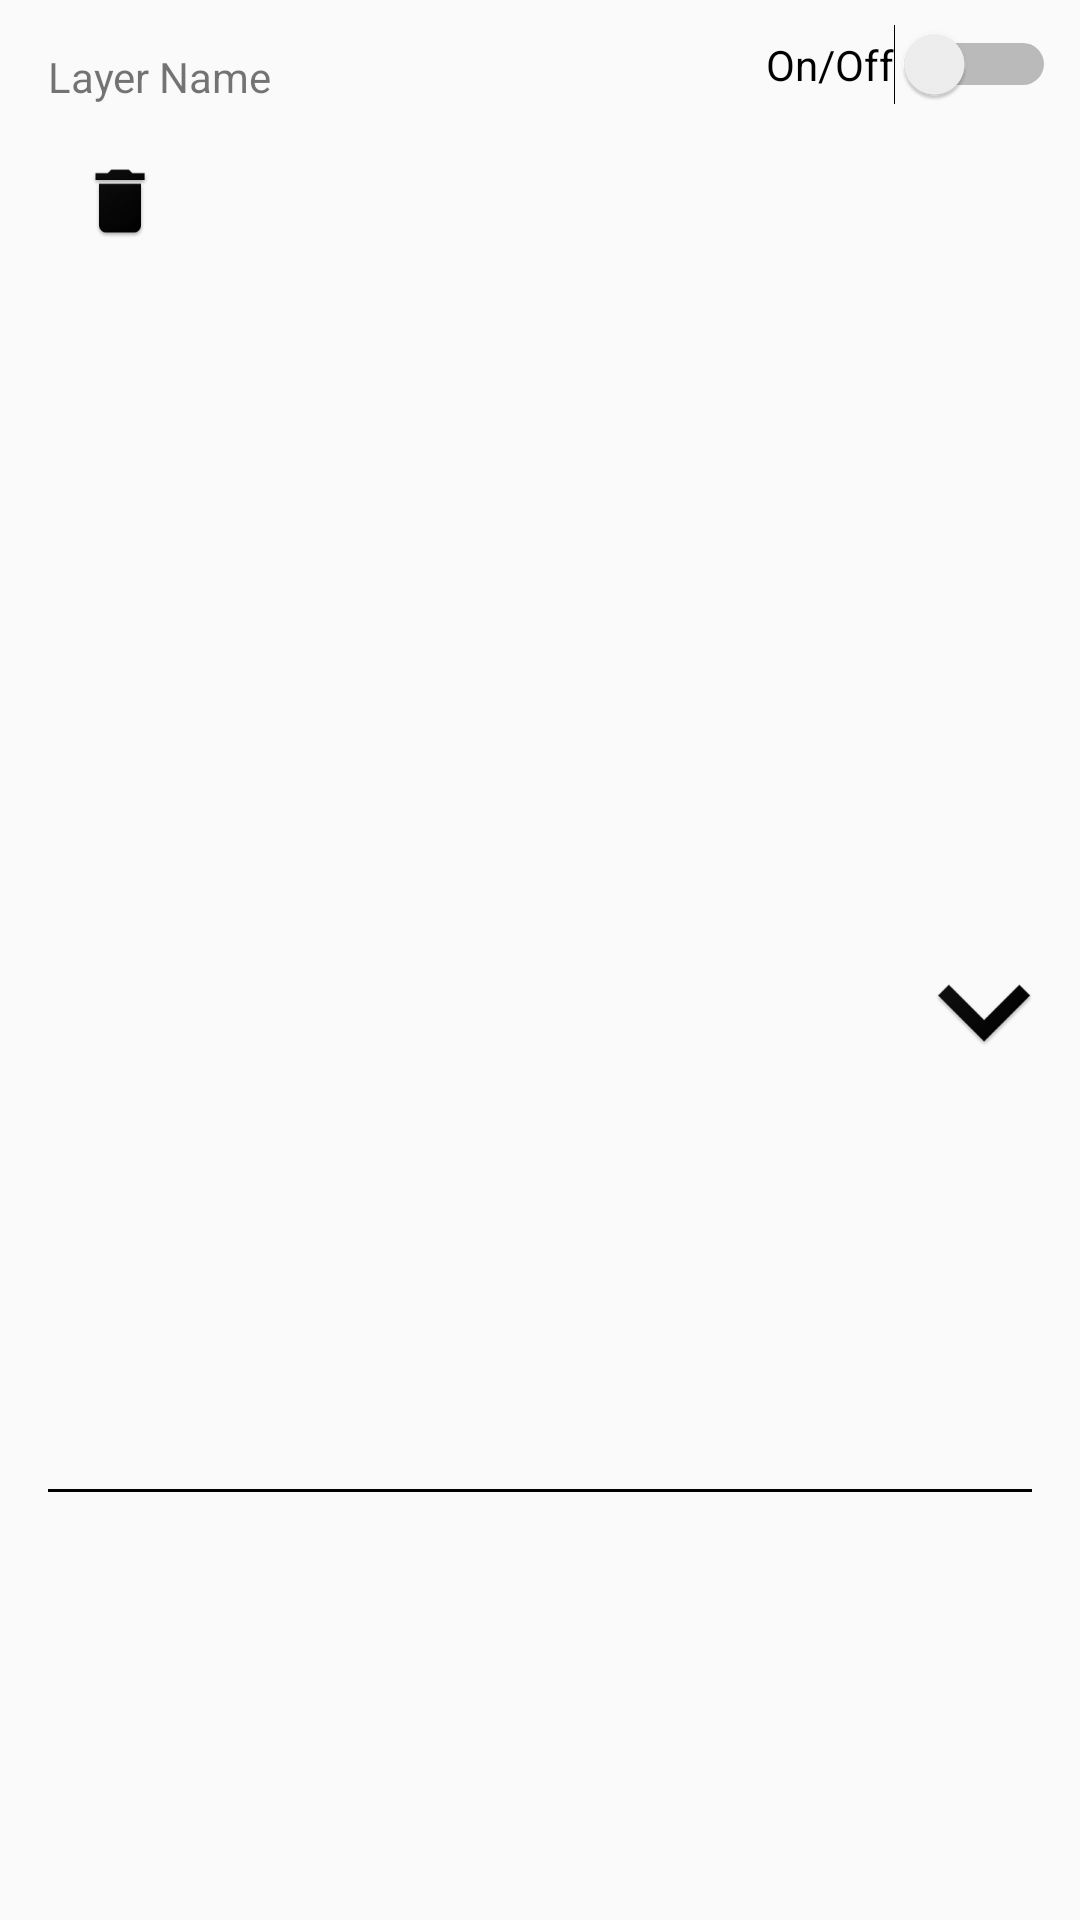

Icons on this 1080*1920 Android screen, each with the point to tap as (x=x, y=y):
remove: (x=120, y=202)
show more: (x=984, y=1013)
